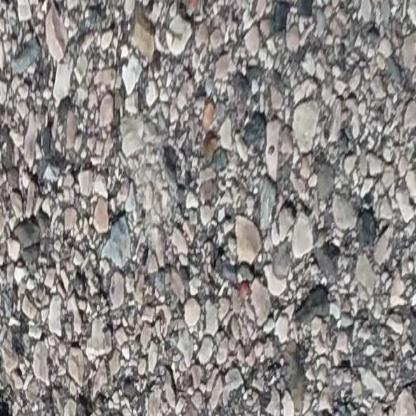Cracks: (76, 379, 140, 416), (0, 298, 20, 416)
